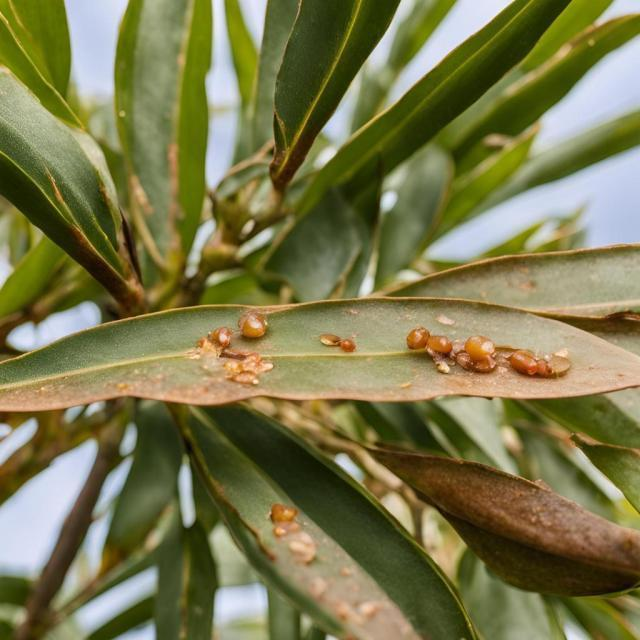BlackScale: (0, 298, 639, 410), (251, 493, 379, 618)
